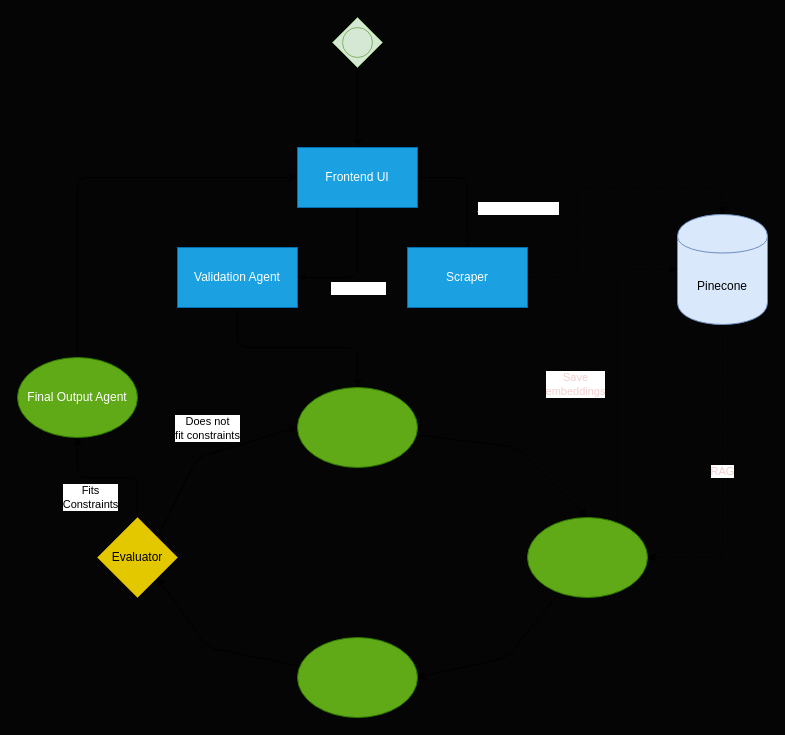
Image size: 785x735. Some labels were removed from this diagram. Here are the shapes that lost their labels. From the top down, the box of each, then its label:
(296, 386, 418, 468): Scheduling Agent
(526, 516, 648, 598): Location Agent
(296, 636, 418, 718): Budget Agent
